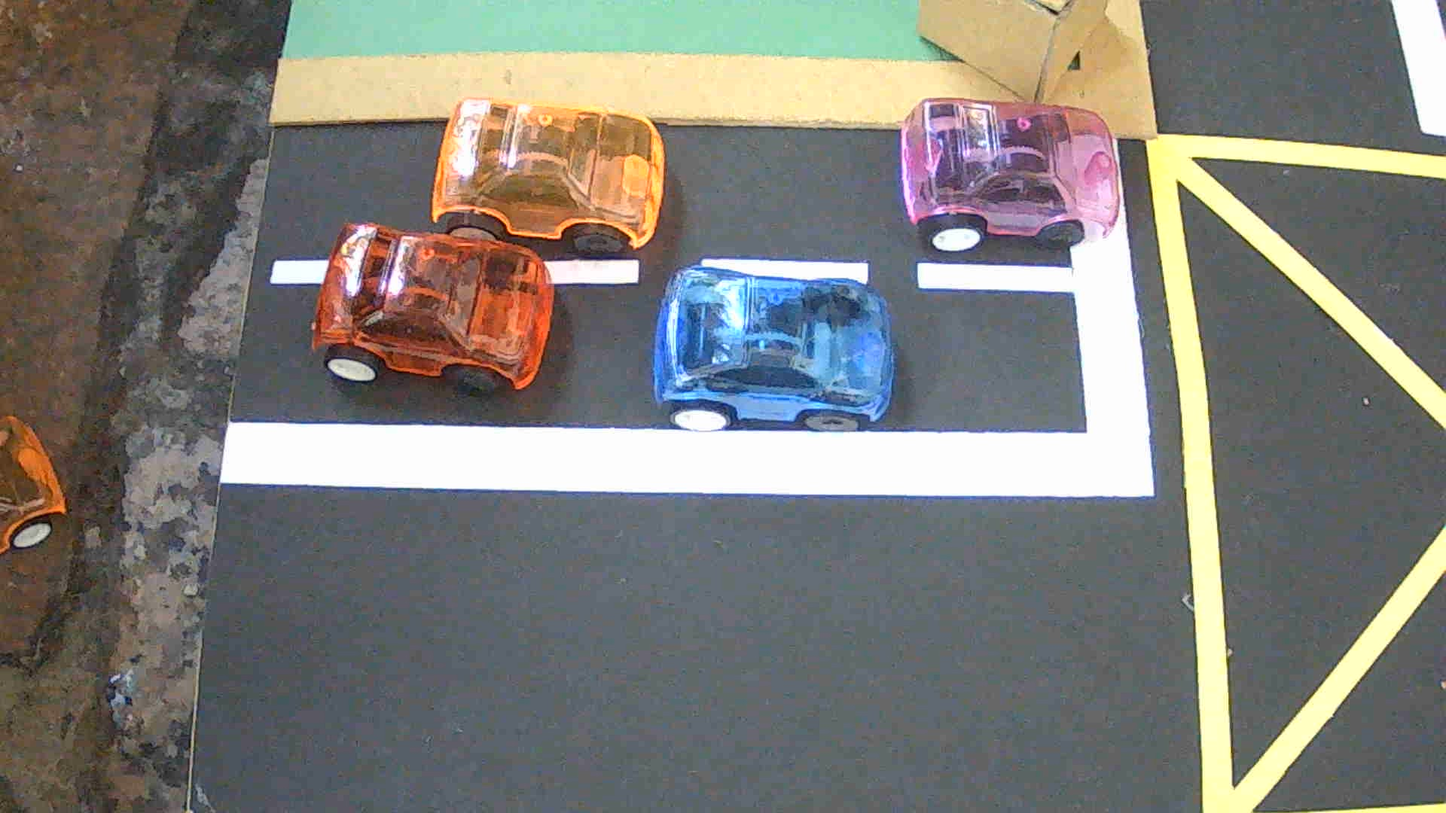Mobil biru: (654, 265, 895, 431)
Mobil merah: (312, 223, 554, 392)
Mobil orange: (432, 98, 664, 256)
Mobil ungu: (900, 98, 1121, 250)
